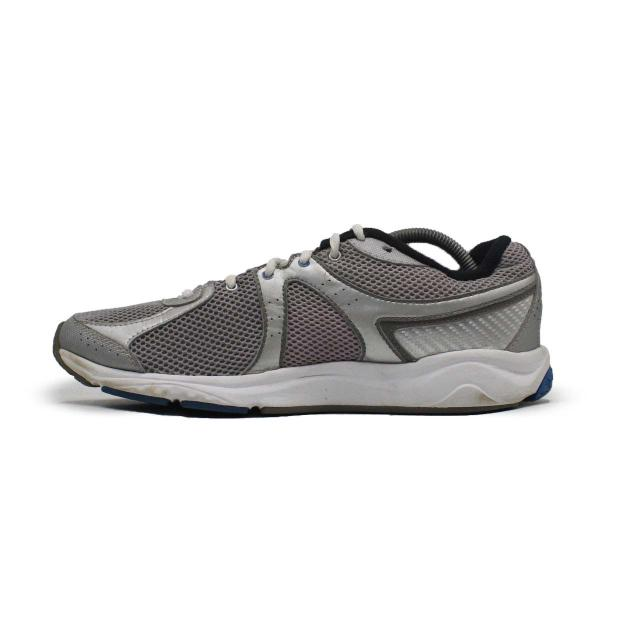heel: (489, 237, 546, 350)
midsole: (57, 345, 554, 413)
uppersole: (53, 228, 507, 375)
